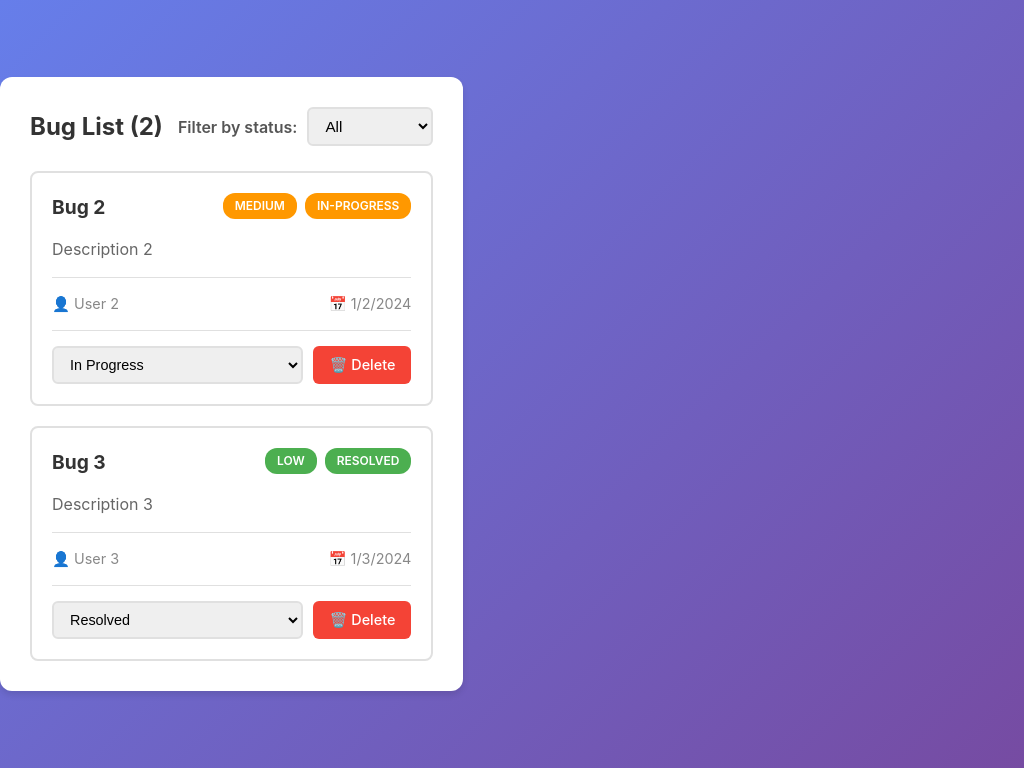
Test: BugList Component › shows appropriate empty message for filtered results
Select "Open" in the dropdown with test id "filter-select" at {"x": 370, "y": 126}, box [307,107,433,146]
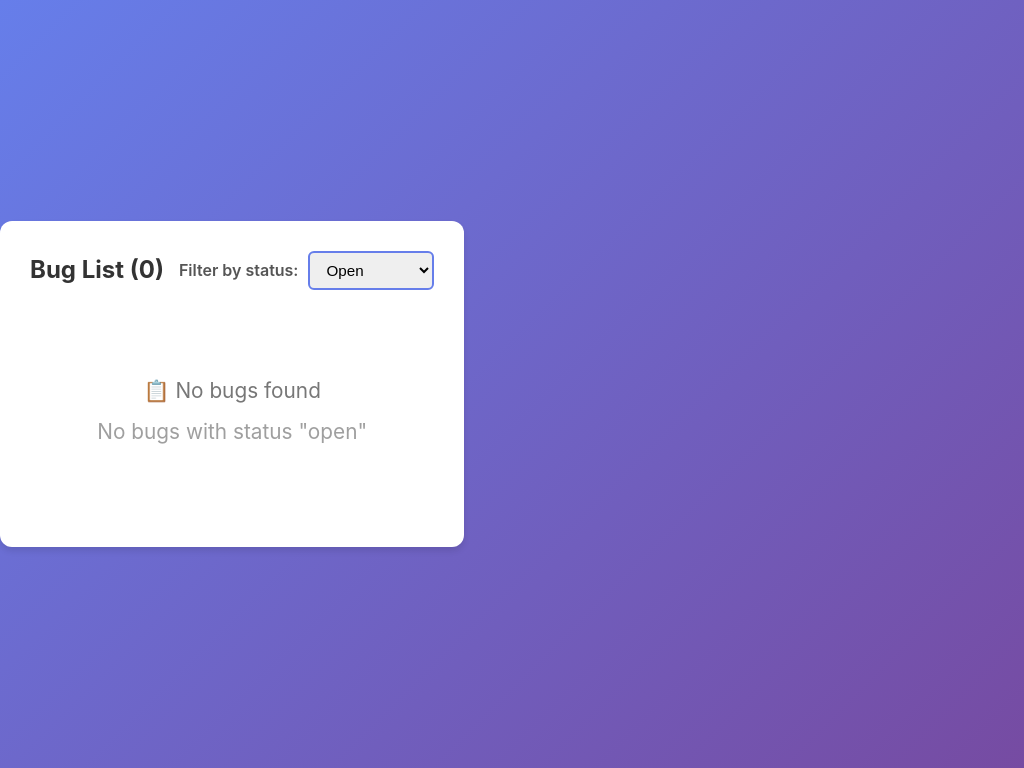
Now the text "No bugs with status \"open\"" is shown, box [97,419,367,444]
